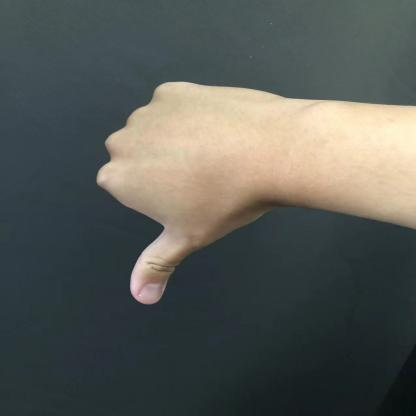Thumbs-Down: (79, 57, 306, 317)
